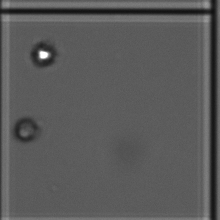Living Cell: (29, 42, 60, 68), (13, 116, 40, 143)
